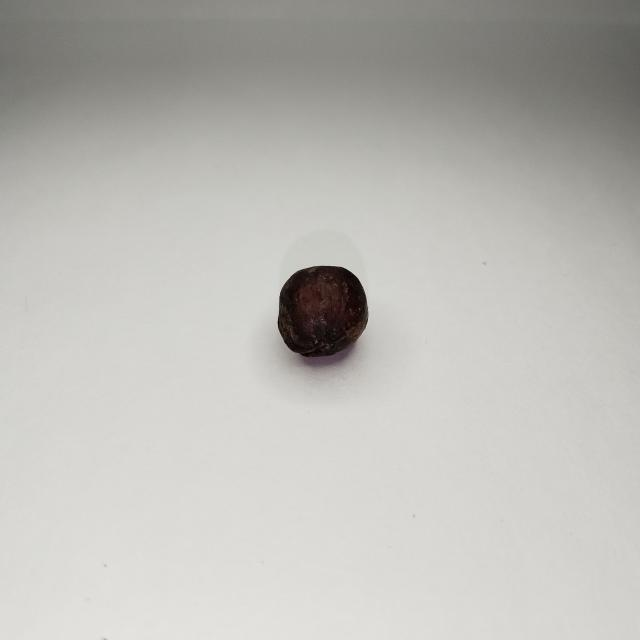Danado: (279, 267, 367, 357)
